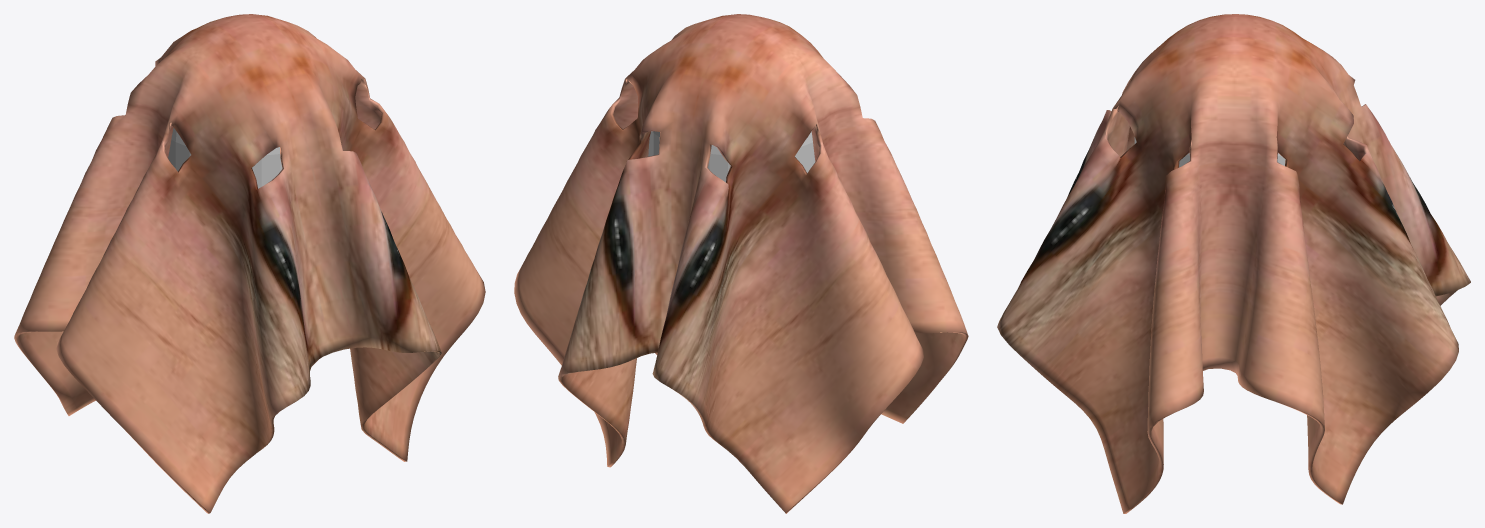
The model's file is Ghost Biden.fbx.
3 renders of one model, left to right at view 1: azimuth 30°, elevation 25°; view 2: azimuth 150°, elevation 25°; view 3: azimuth 270°, elevation 25°, orthographic. The views are drawn at different scales.
Visible parts, largest first — view 1: Plane, Sphere; view 2: Plane, Sphere; view 3: Plane.
Part boxes in pixels (bbox=[...]): Plane: bbox=[14, 14, 485, 513]; Sphere: bbox=[168, 128, 282, 188]; Plane: bbox=[514, 14, 968, 513]; Sphere: bbox=[648, 131, 815, 182]; Plane: bbox=[997, 14, 1470, 513].
Bounding box in the file's own units: 483 × 484 × 471.
